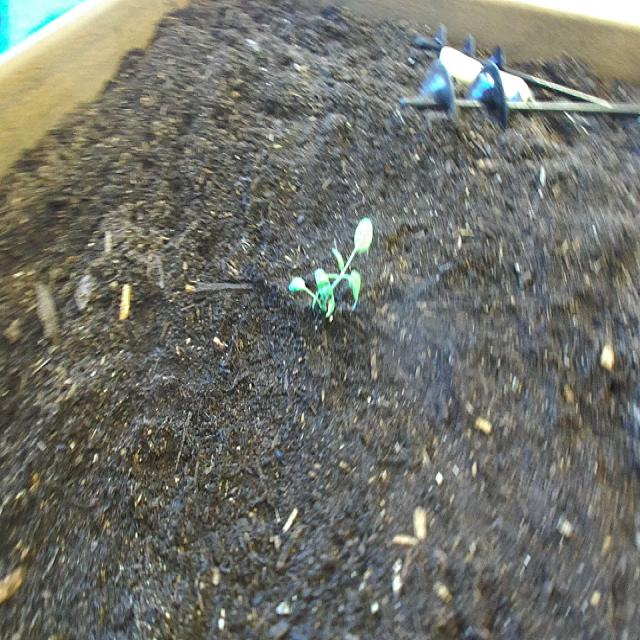Healthy: (286, 213, 379, 329)
